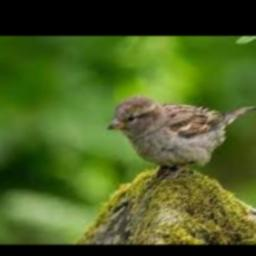Sparrow: (106, 94, 256, 178)
